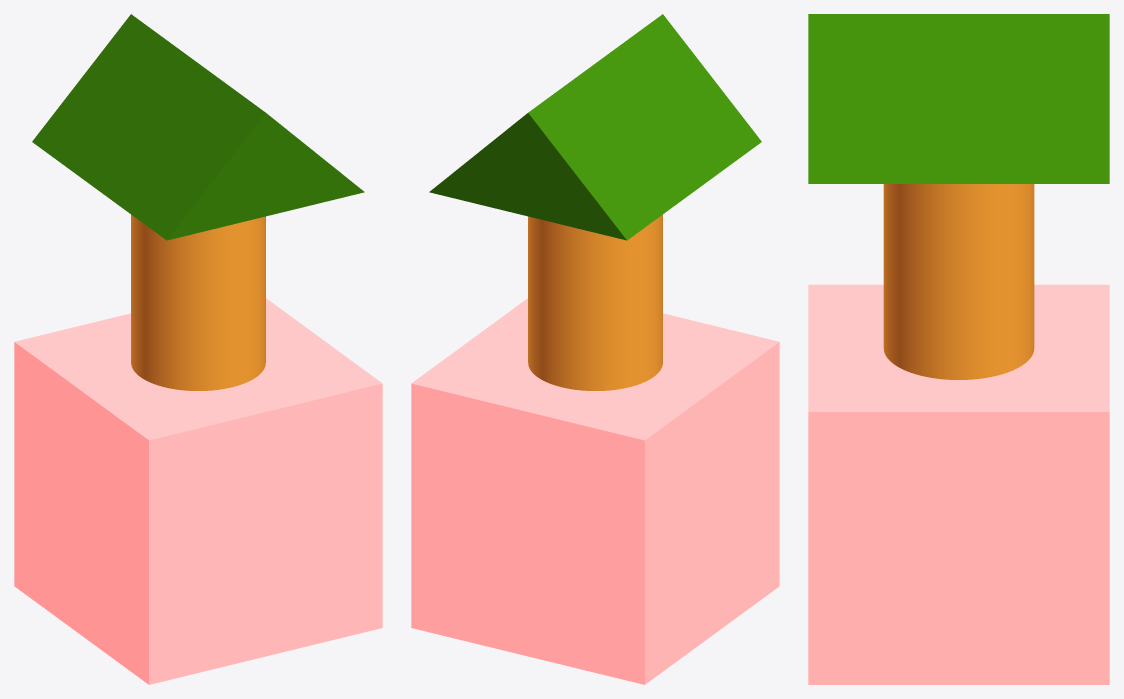
File: NoahKolen.gltf
The picture shows the model from 3 angles, left to right: view 1: azimuth 30°, elevation 25°; view 2: azimuth 150°, elevation 25°; view 3: azimuth 270°, elevation 25°; orthographic projection. The views are drawn at different scales.
Visible parts, largest first — view 1: mesh9_mesh_4, mesh9_mesh, mesh4_mesh_1, mesh9_mesh_3, mesh0_mesh_2, mesh4_mesh_4, mesh0_mesh_1; view 2: mesh9_mesh_5, mesh9_mesh, mesh4_mesh_1, mesh9_mesh_3, mesh0_mesh_2, mesh4_mesh, mesh0_mesh_1; view 3: mesh9_mesh_2, mesh4_mesh_2, mesh0_mesh_1, mesh9_mesh_3.
Part boxes in pixels (box(x1,y1,x2,y2)): mesh9_mesh_4: box(149, 383, 382, 684); mesh9_mesh: box(14, 342, 148, 684); mesh4_mesh_1: box(32, 14, 265, 240); mesh9_mesh_3: box(14, 298, 382, 440); mesh0_mesh_2: box(131, 214, 232, 390); mesh4_mesh_4: box(167, 113, 364, 240); mesh0_mesh_1: box(232, 216, 265, 387); mesh9_mesh_5: box(411, 383, 644, 684); mesh9_mesh: box(645, 342, 779, 684); mesh4_mesh_1: box(528, 14, 761, 240); mesh9_mesh_3: box(411, 298, 779, 440); mesh0_mesh_2: box(561, 214, 662, 390); mesh4_mesh: box(429, 113, 626, 240); mesh0_mesh_1: box(528, 216, 561, 387); mesh9_mesh_2: box(808, 412, 1109, 684); mesh4_mesh_2: box(808, 14, 1109, 183); mesh0_mesh_1: box(883, 184, 1034, 379); mesh9_mesh_3: box(808, 284, 1109, 411).
Bounding box in the file's own units: 0.1 × 0.2224 × 0.1.
